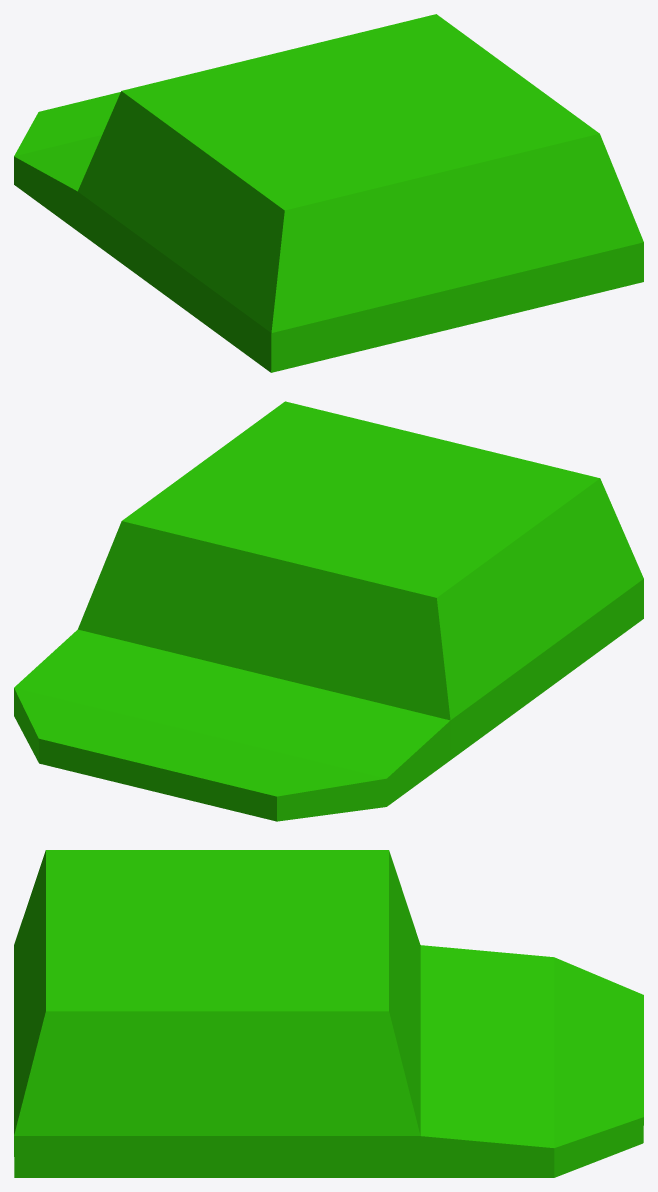
File: hat.fbx
3 views of the same model, one above another, from view 1: azimuth 30°, elevation 25°; view 2: azimuth 150°, elevation 25°; view 3: azimuth 270°, elevation 25° (orthographic). The views are drawn at different scales.
Visible parts, largest first — view 1: Cube.007; view 2: Cube.007; view 3: Cube.007.
Boxes of the visible parts, box(x1,y1,x2,y2) form: Cube.007: box(14, 14, 643, 372); Cube.007: box(14, 401, 643, 821); Cube.007: box(14, 850, 643, 1177).
Bounding box in the file's own units: 0.5708 × 0.2113 × 0.7957.
